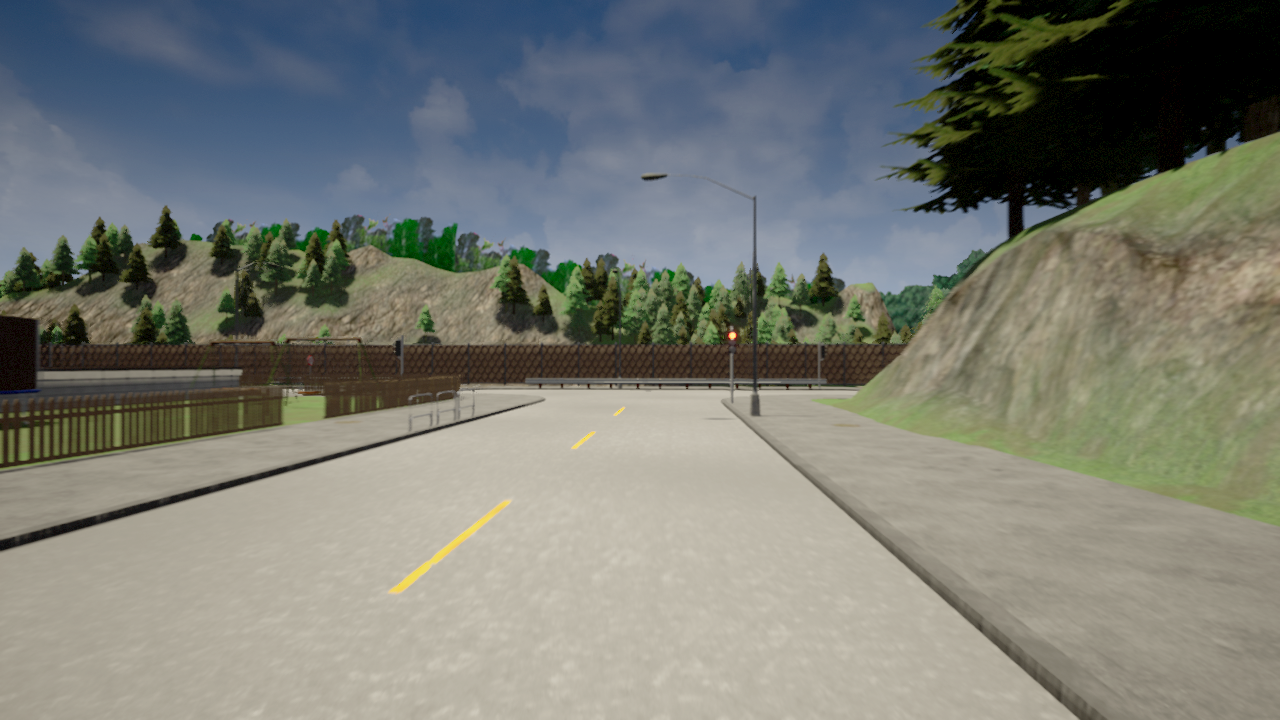red: (727, 331, 738, 355)
